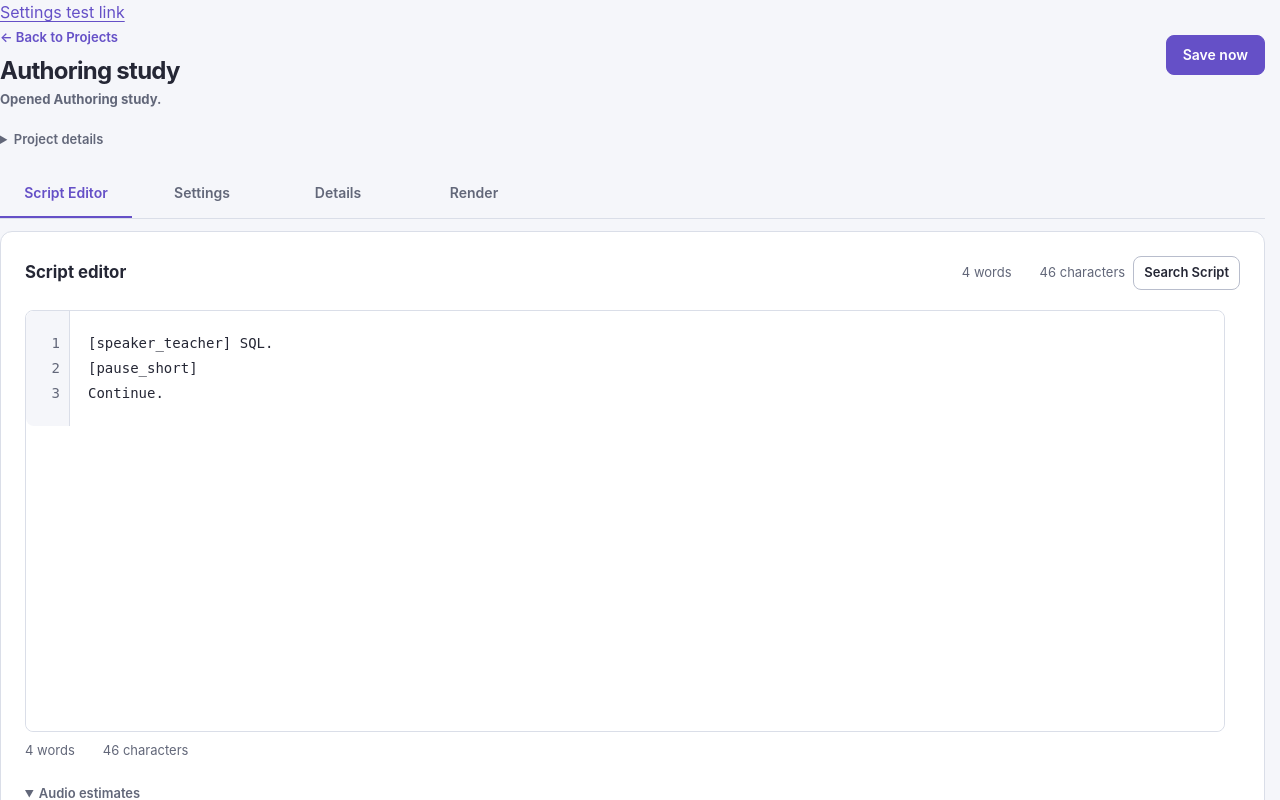
Projects workbench › blocks a known insufficient render locally with the same byte-only message
The width and height of the screenshot is (1280, 800).
Click the tab "Render" at {"x": 474, "y": 194}, box [408, 170, 540, 218]
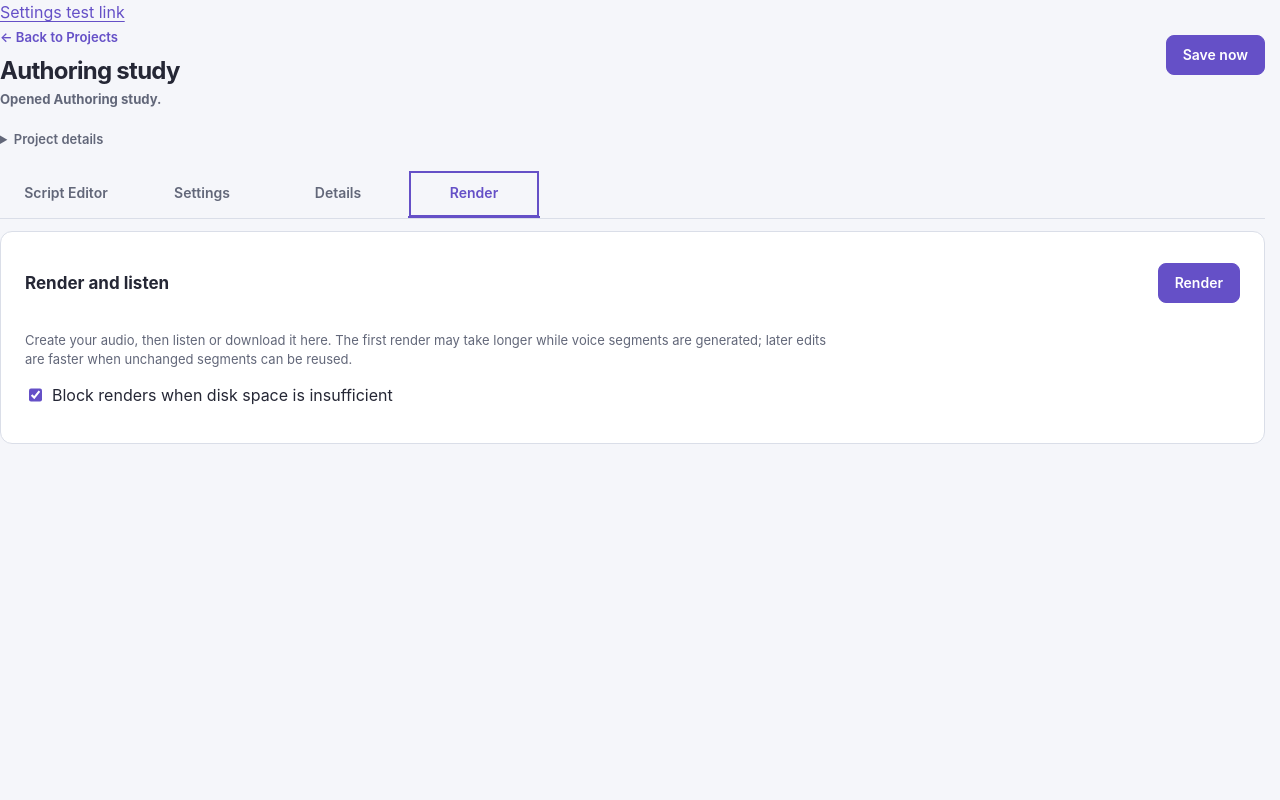
Check: the button "Render" is enabled
Click the button "Render" at {"x": 1199, "y": 283}, box [1158, 263, 1240, 303]
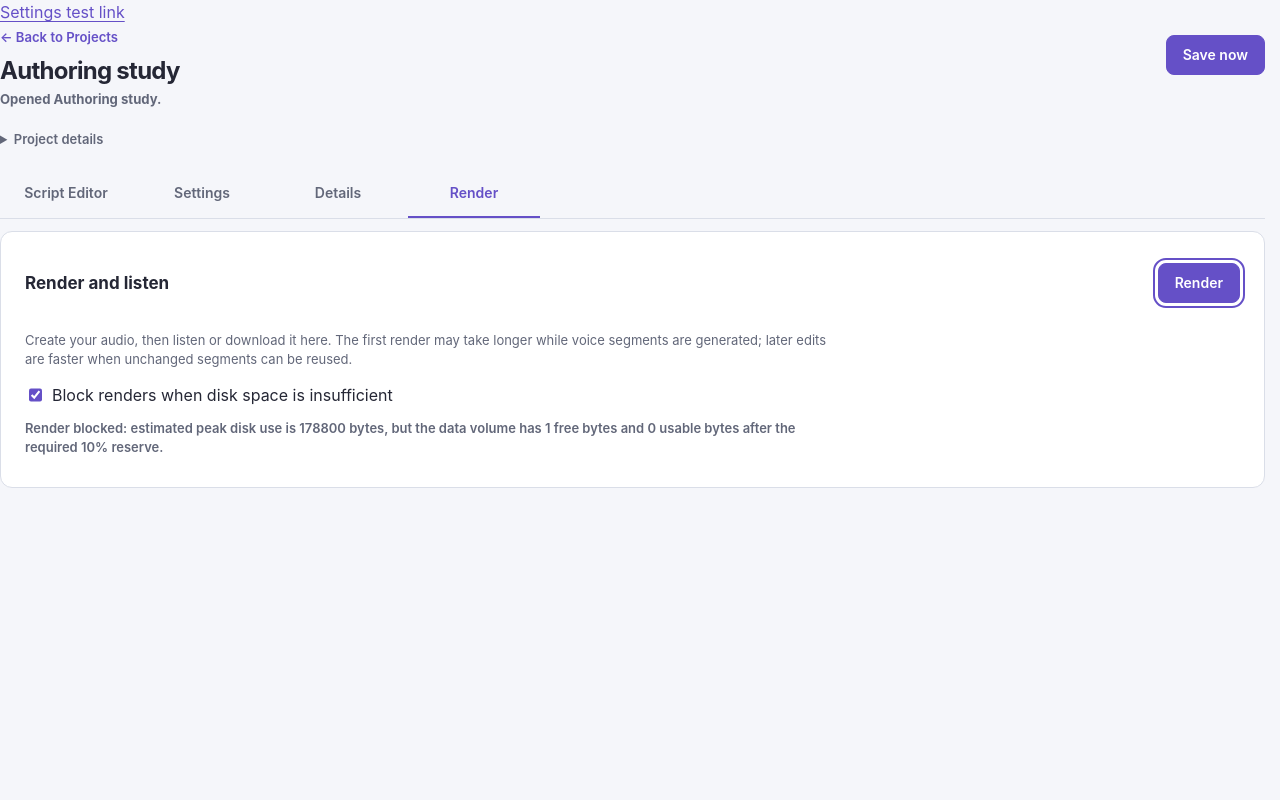
Check: the message shows "Render blocked: estimated peak disk use is 178800 bytes, but the data volume has 1 free bytes and 0 usable bytes after the required 10% reserve.", box [25, 420, 796, 455]
